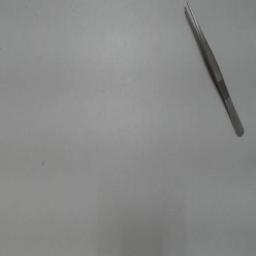Gillies Toothed Dissector: (180, 2, 248, 140)
